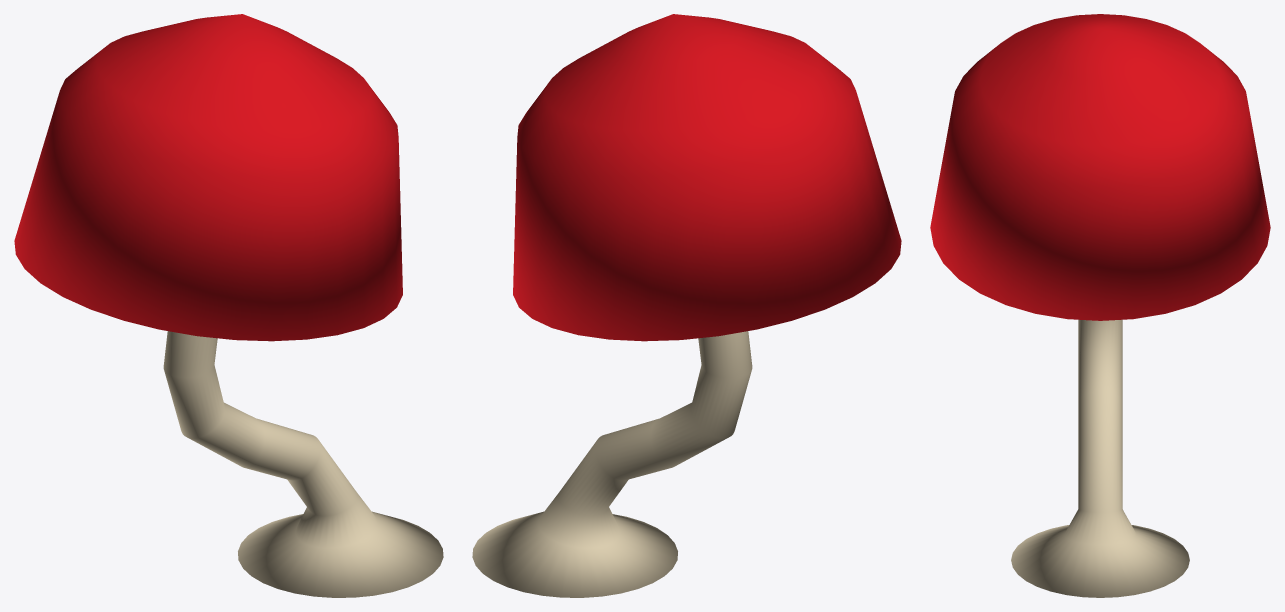
The model's file is champi33.fbx.
3 renders of one model, left to right at view 1: azimuth 30°, elevation 25°; view 2: azimuth 150°, elevation 25°; view 3: azimuth 270°, elevation 25°, orthographic. The views are drawn at different scales.
Visible parts, largest first — view 1: Cylinder_001; view 2: Cylinder_001; view 3: Cylinder_001.
Part boxes in pixels (left/top/right/bottom): Cylinder_001: left=14, top=14, right=443, bottom=597; Cylinder_001: left=472, top=14, right=901, bottom=597; Cylinder_001: left=930, top=14, right=1270, bottom=597.
Bounding box in the file's own units: 87.22 × 121 × 76.11.
